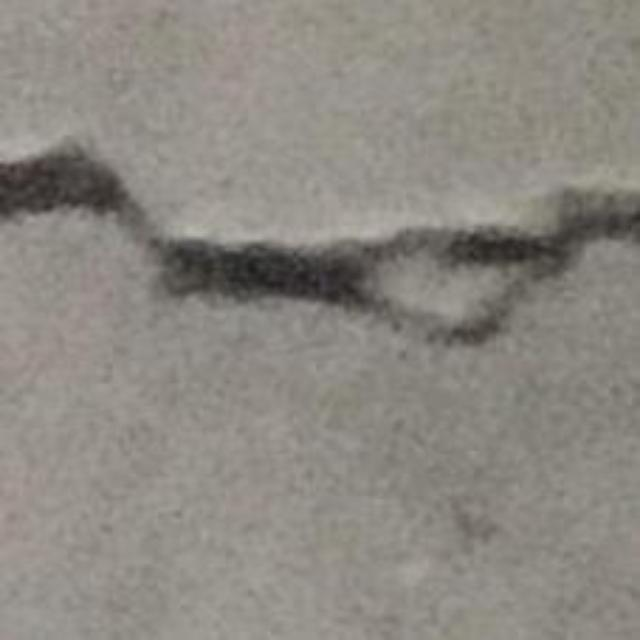crack: (0, 144, 639, 343)
